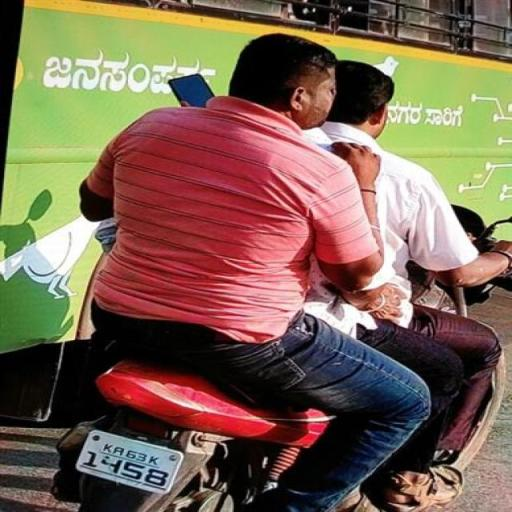tripple riding: (73, 28, 512, 388)
